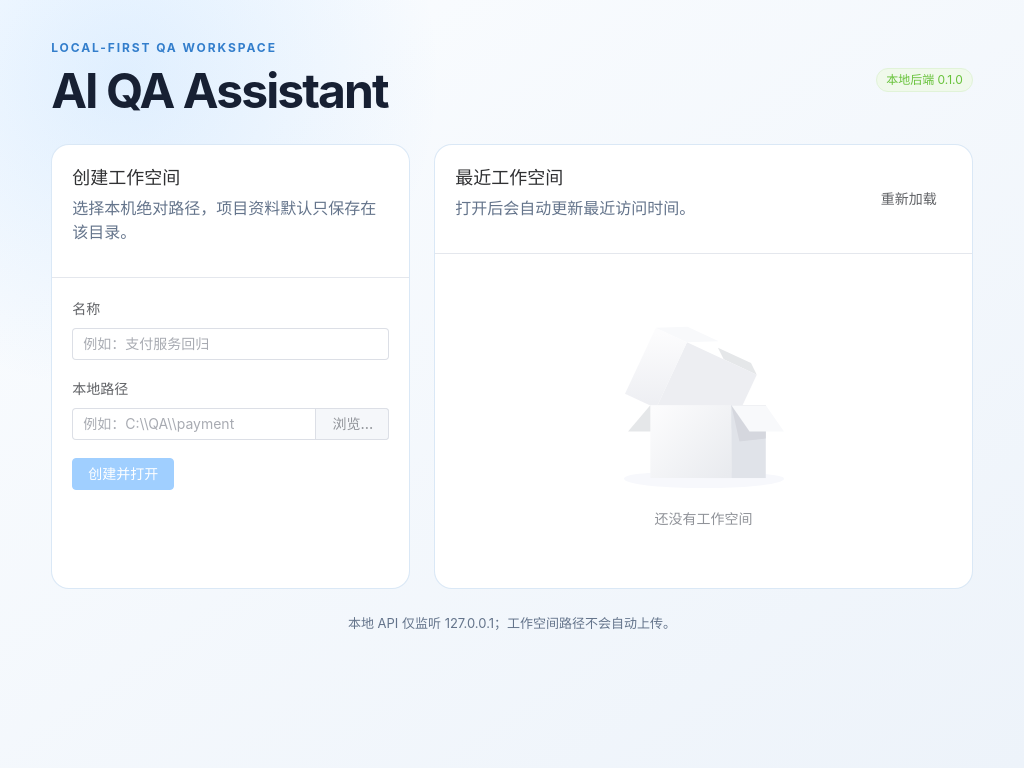
Test: WorkspaceView › creates a workspace from the local path form
Type "支付项目" into the field labelled "名称" at (231, 344), box [83,329,378,359]
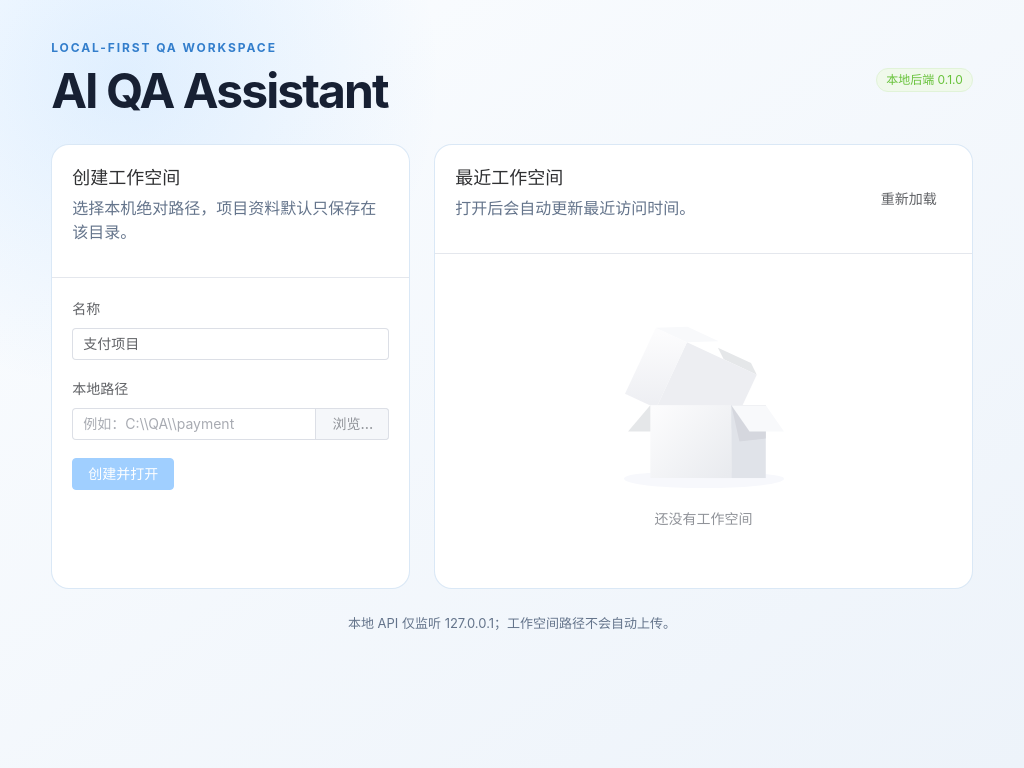
Type "C:\\qa\\payment" into the field labelled "本地路径" at (194, 424), box [83,409,306,439]
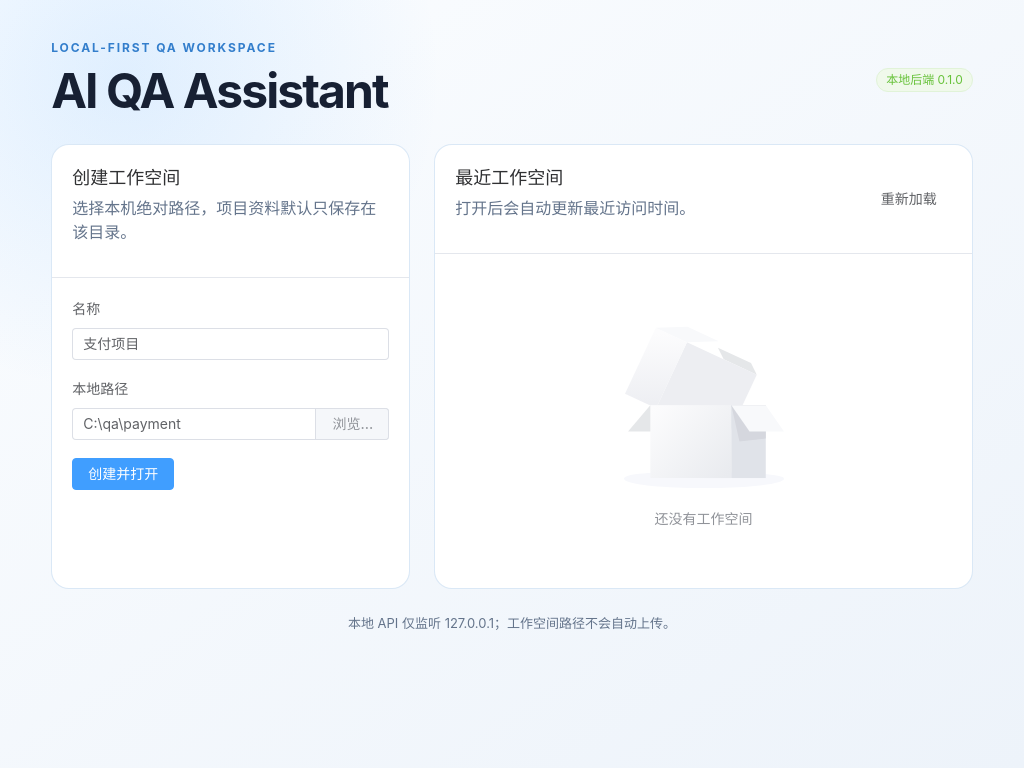
Click the button with test id "create-workspace" at (123, 474), box [72,458,174,490]
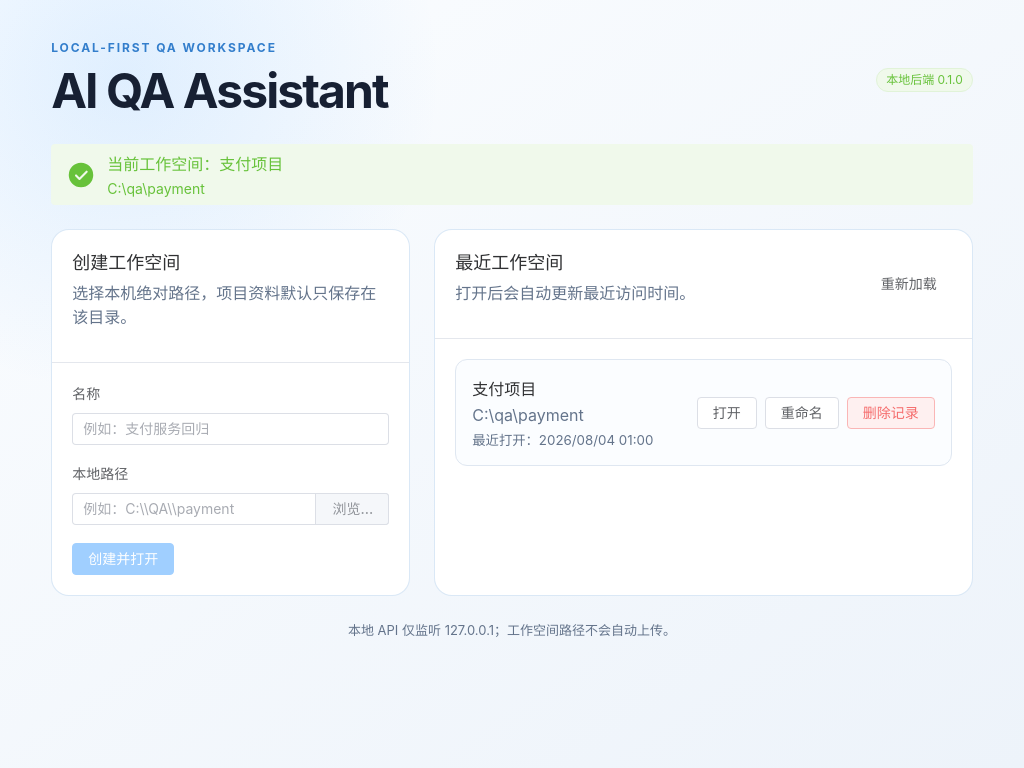
Expected: the text "当前工作空间：支付项目" is shown, [107,152,283,176]
